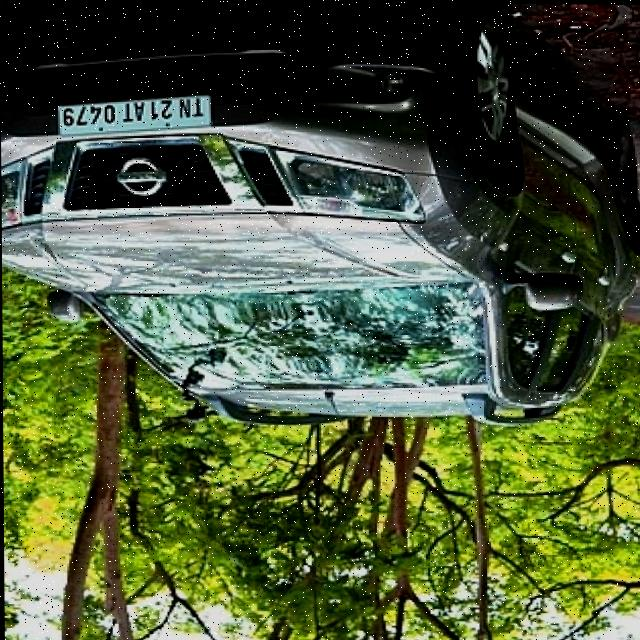plate: (56, 87, 213, 142)
